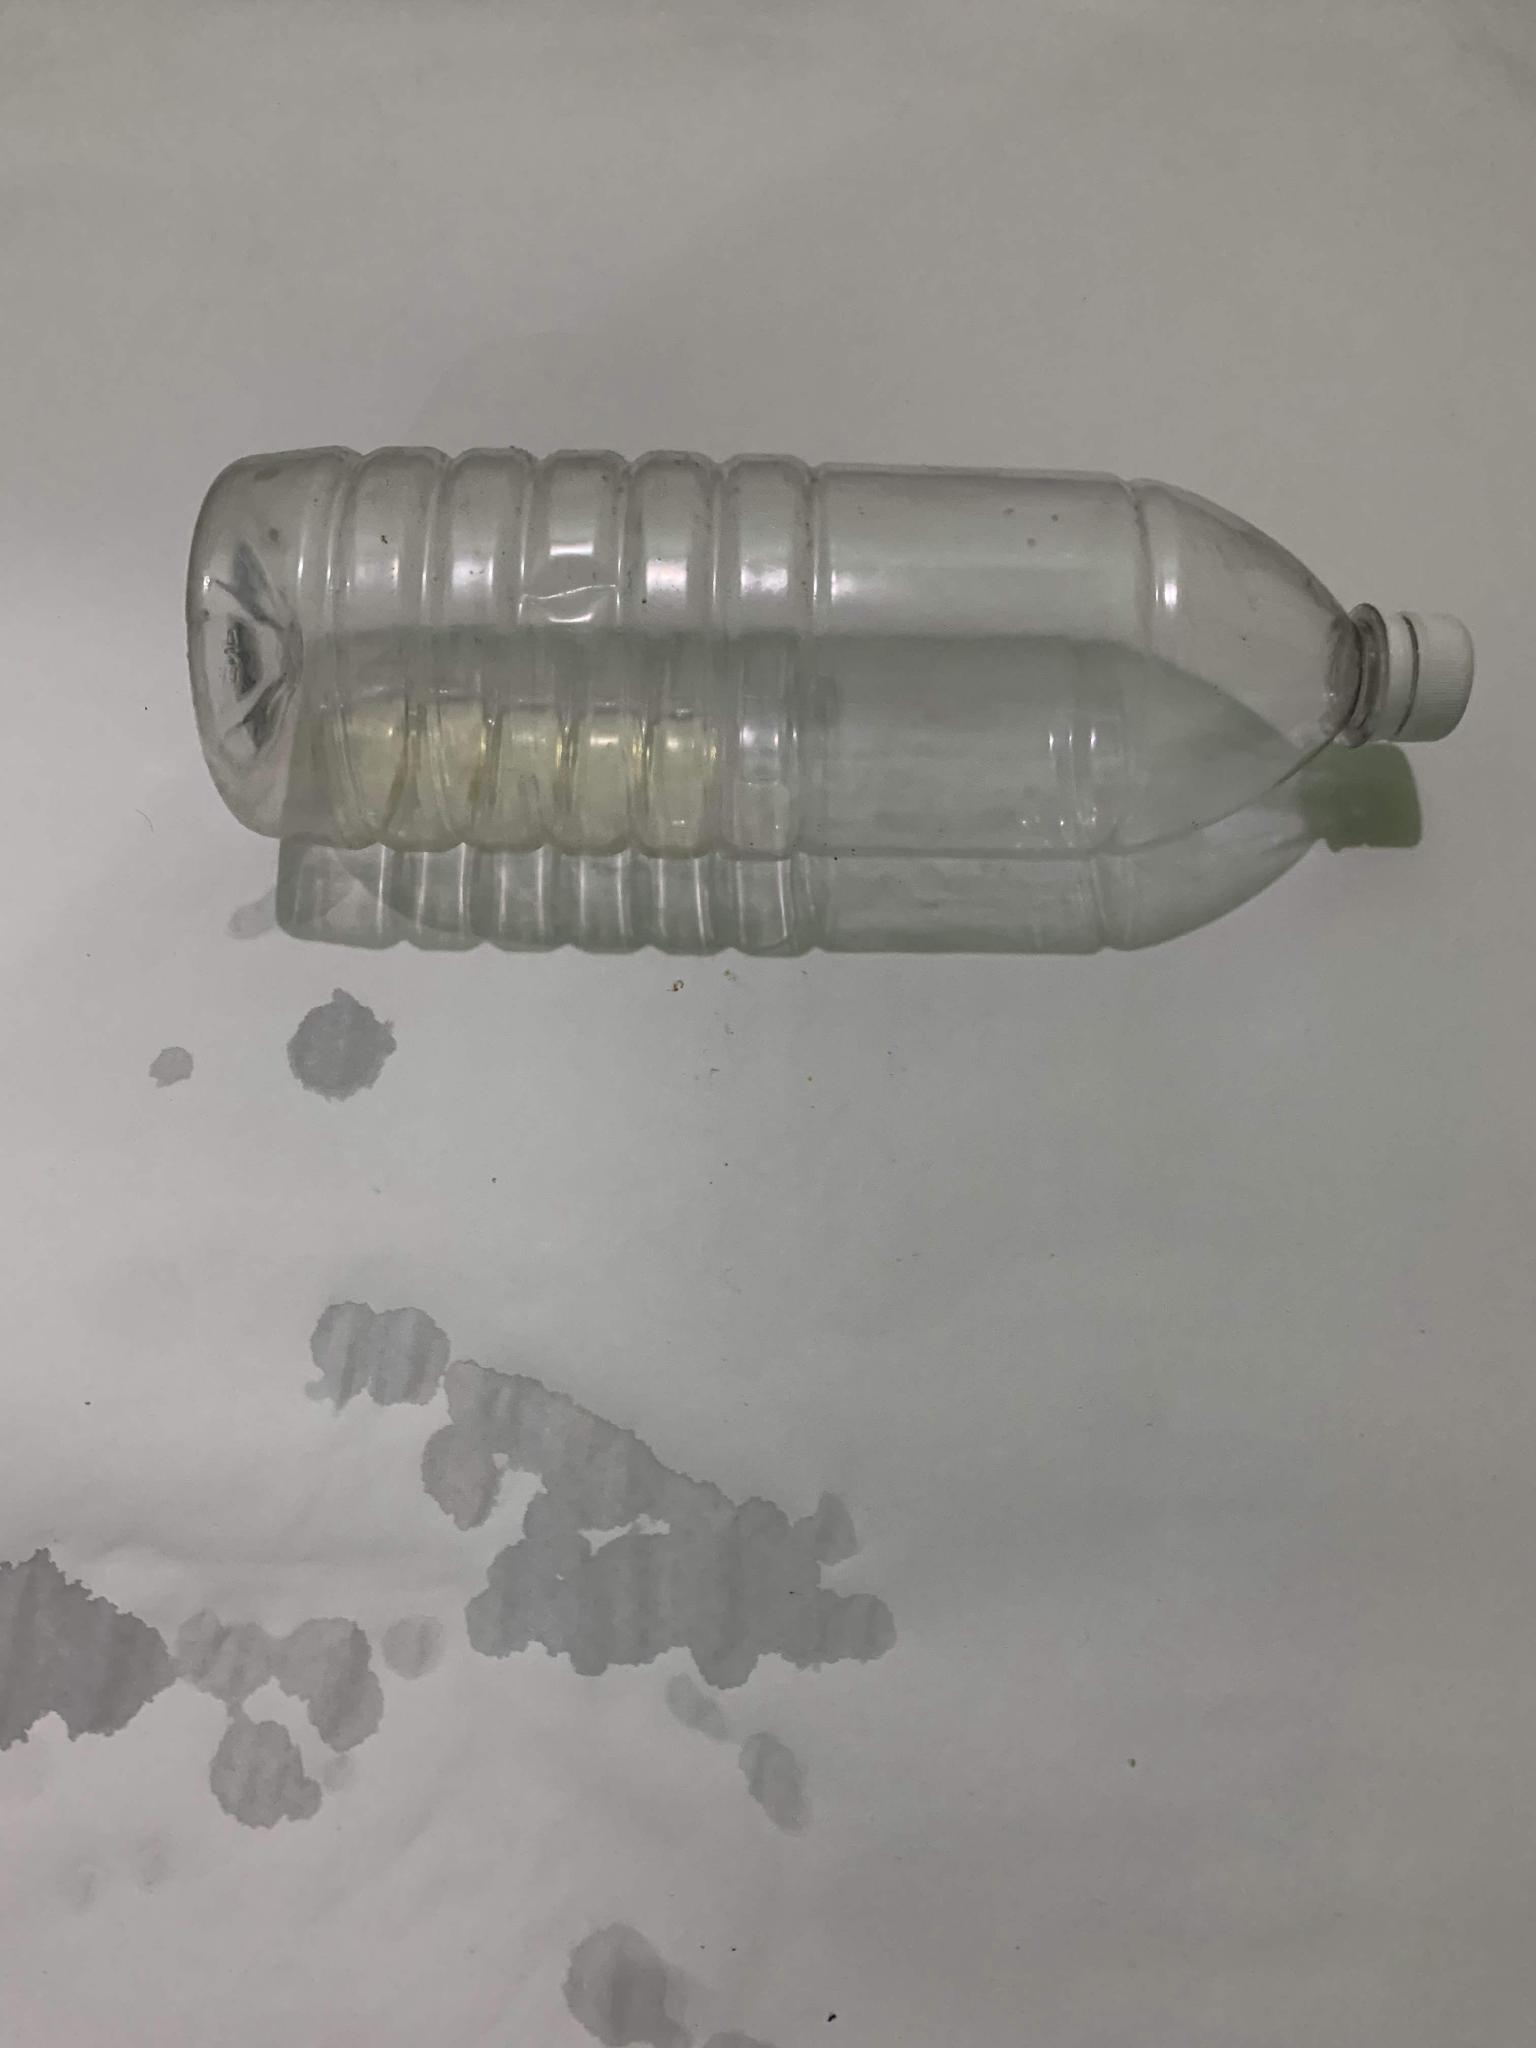bottle: (168, 437, 1499, 869)
